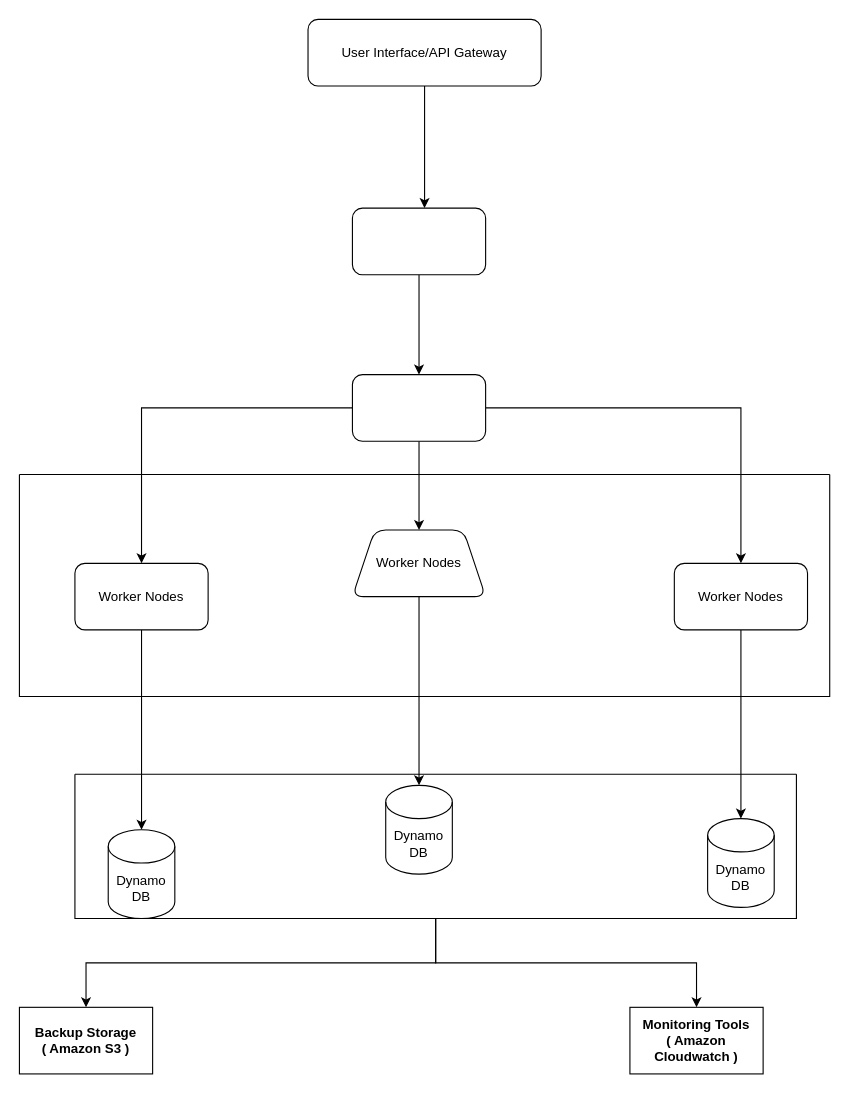
This 849x1093 diagram has some shape labels left out. The shapes that lost their labels are listed below. From the top down, each one's centre as x and y in pixels, then its label:
At point (418, 241): "Load Balancer".
At point (418, 407): "Messaging Queue ( Amazon SQS )".
At point (424, 585): "Kubernetes Managed environment".
